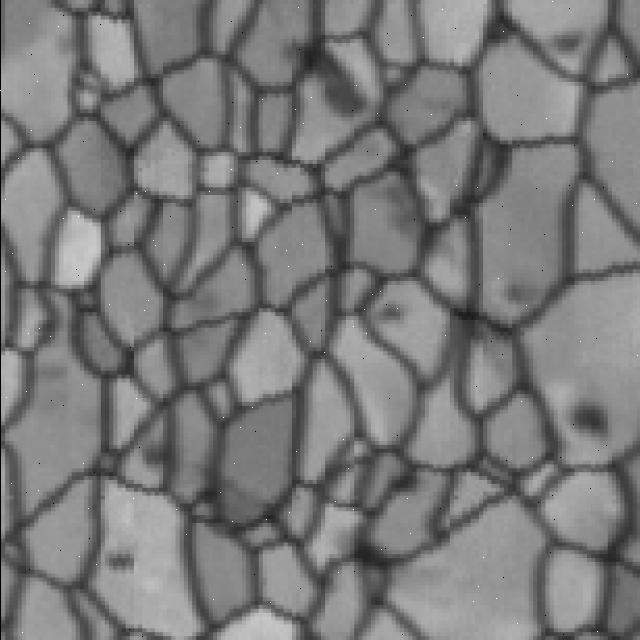good_void: (284, 41, 376, 126), (359, 178, 422, 253), (544, 5, 591, 61), (566, 391, 614, 444), (479, 6, 520, 52), (383, 459, 420, 504), (134, 437, 175, 476), (487, 275, 529, 313), (370, 291, 405, 326), (103, 547, 146, 572)
